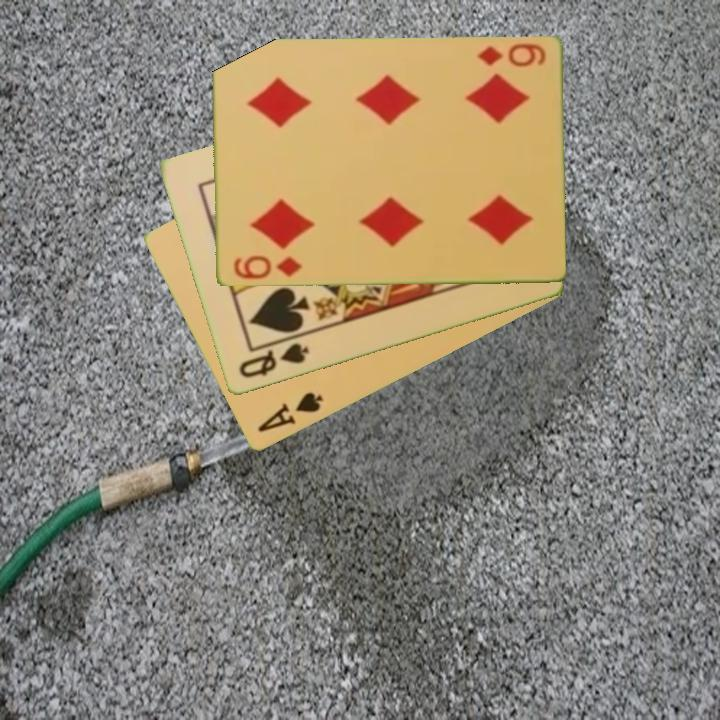6d: (230, 252, 305, 282), (473, 40, 548, 70)
As: (254, 389, 326, 436)
Qs: (235, 340, 312, 382)
